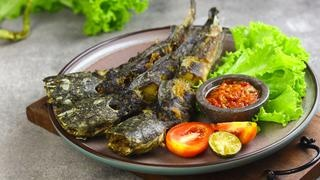pecel_lele: (41, 8, 188, 156)
